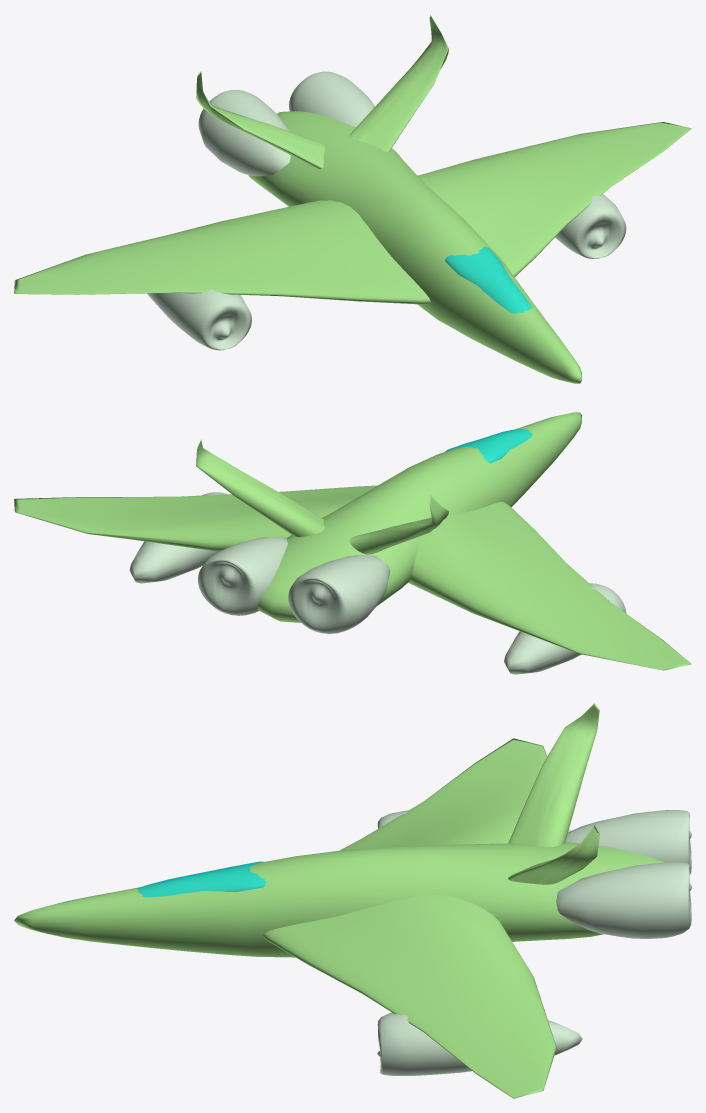
The model's file is fighter.fbx.
The picture shows the model from 3 angles, top to bottom: view 1: azimuth 30°, elevation 25°; view 2: azimuth 150°, elevation 25°; view 3: azimuth 270°, elevation 25°; orthographic projection. The views are drawn at different scales.
Visible parts, largest first — view 1: pSphere4, pSphere1, pSphere7, pSphere6, pSphere3, pSphere5, pSphere2, pSphere8; view 2: pSphere4, pSphere1, pSphere6, pSphere7, pSphere5, pSphere2, pSphere3, pSphere8; view 3: pSphere4, pSphere1, pSphere5, pSphere7, pSphere6, pSphere2, pSphere8.
Boxes of the visible parts, bbox=[...] form: pSphere4: bbox=[14, 122, 691, 304]; pSphere1: bbox=[248, 111, 581, 383]; pSphere7: bbox=[196, 14, 448, 168]; pSphere6: bbox=[198, 90, 290, 176]; pSphere3: bbox=[147, 289, 251, 350]; pSphere5: bbox=[289, 71, 374, 127]; pSphere2: bbox=[555, 194, 626, 258]; pSphere8: bbox=[445, 246, 532, 313]; pSphere4: bbox=[14, 485, 691, 670]; pSphere1: bbox=[257, 412, 581, 622]; pSphere6: bbox=[288, 555, 390, 633]; pSphere7: bbox=[196, 439, 448, 554]; pSphere5: bbox=[198, 537, 287, 615]; pSphere2: bbox=[129, 492, 227, 583]; pSphere3: bbox=[504, 583, 626, 674]; pSphere8: bbox=[445, 429, 532, 463]; pSphere4: bbox=[263, 738, 556, 1098]; pSphere1: bbox=[14, 842, 664, 957]; pSphere5: bbox=[556, 862, 691, 938]; pSphere7: bbox=[508, 703, 599, 884]; pSphere6: bbox=[565, 810, 691, 874]; pSphere2: bbox=[377, 1012, 582, 1075]; pSphere8: bbox=[137, 861, 266, 897].
Bounding box in the file's own units: 2.52 × 0.6808 × 2.01.
